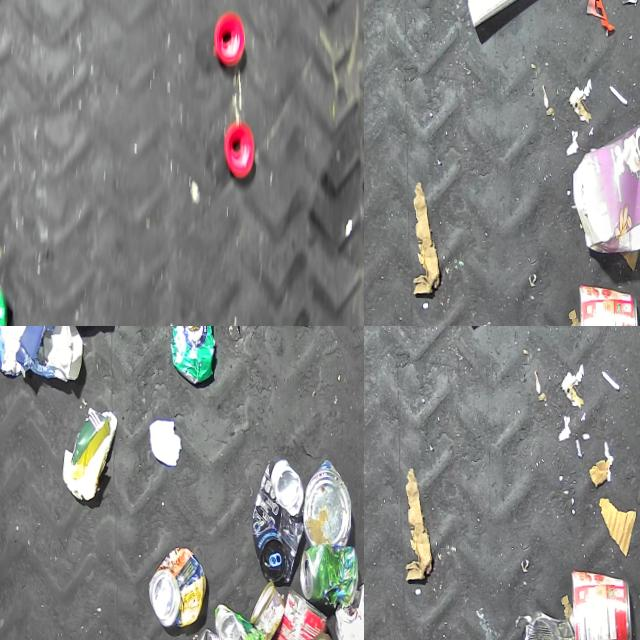can: (248, 453, 304, 579), (145, 541, 204, 626), (567, 562, 629, 640), (299, 453, 351, 542), (295, 537, 354, 603), (260, 584, 326, 640), (575, 276, 637, 326), (167, 326, 214, 381), (330, 571, 364, 640), (246, 577, 283, 639), (210, 599, 263, 640), (517, 603, 574, 640)
non_white_jug: (570, 103, 640, 256)
